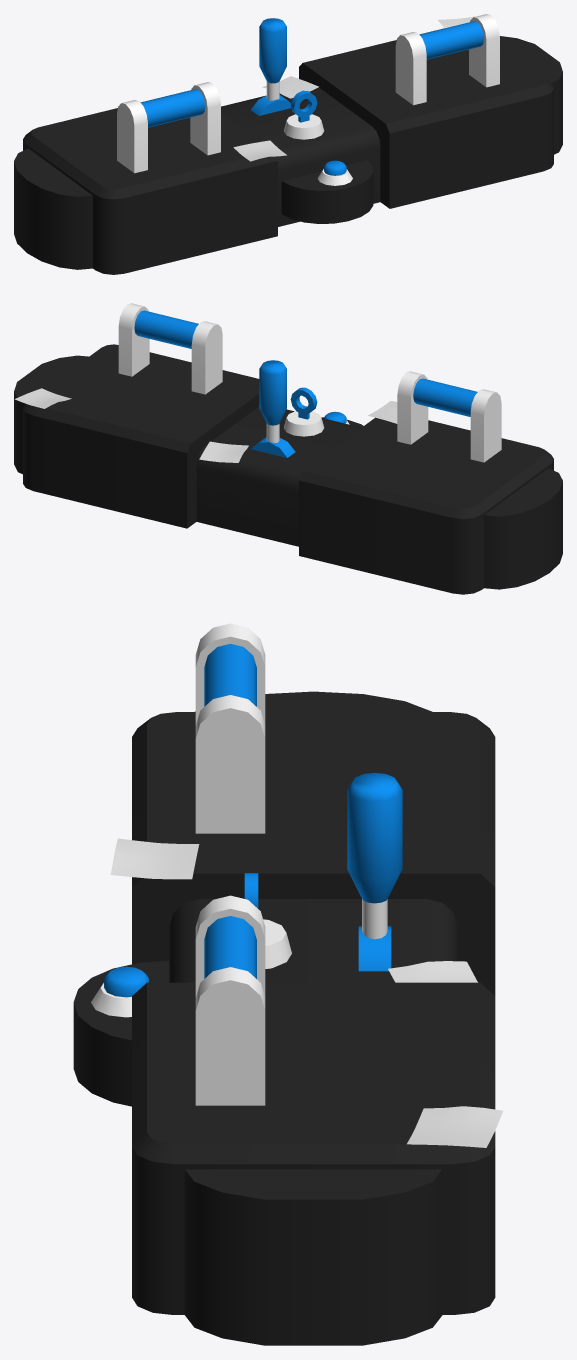
File: Controller.fbx
3 views of the same model, one above another, from view 1: azimuth 30°, elevation 25°; view 2: azimuth 150°, elevation 25°; view 3: azimuth 270°, elevation 25° (orthographic). The views are drawn at different scales.
Visible parts, largest first — view 1: Cube, Cube.002, Cube.001, Cylinder.003, Cylinder.002, Plane, Cylinder.004, Plane.001; view 2: Cube, Cube.002, Cube.001, Cylinder.003, Cylinder.002, Plane.001, Plane.002, Cylinder.004, Plane; view 3: Cube, Cube.001, Cube.002, Cylinder.003, Plane.002, Plane, Plane.001, Cylinder.001, Cylinder.002.
Boxes of the visible parts, <box> form: Cube: <box>14,28,562,274</box>; Cube.002: <box>395,14,499,105</box>; Cube.001: <box>117,82,220,173</box>; Cylinder.003: <box>251,18,291,115</box>; Cylinder.002: <box>284,114,324,139</box>; Plane: <box>233,140,286,161</box>; Cylinder.004: <box>290,90,317,122</box>; Plane.001: <box>262,76,318,98</box>; Cube: <box>14,344,562,594</box>; Cube.002: <box>118,303,222,394</box>; Cube.001: <box>397,371,501,462</box>; Cylinder.003: <box>251,360,295,457</box>; Cylinder.002: <box>284,411,324,436</box>; Plane.001: <box>199,441,248,462</box>; Plane.002: <box>15,388,71,408</box>; Cylinder.004: <box>290,387,317,419</box>; Plane: <box>368,401,397,423</box>; Cube: <box>73,691,495,1345</box>; Cube.001: <box>195,623,265,833</box>; Cube.002: <box>195,895,265,1105</box>; Cylinder.003: <box>347,772,402,971</box>; Plane.002: <box>407,1106,503,1147</box>; Plane: <box>110,838,199,879</box>; Plane.001: <box>388,961,477,982</box>; Cylinder.001: <box>104,966,148,997</box>; Cylinder.002: <box>263,919,291,968</box>.
Bounding box in the file's own units: 6.61 × 2.37 × 1.88.
